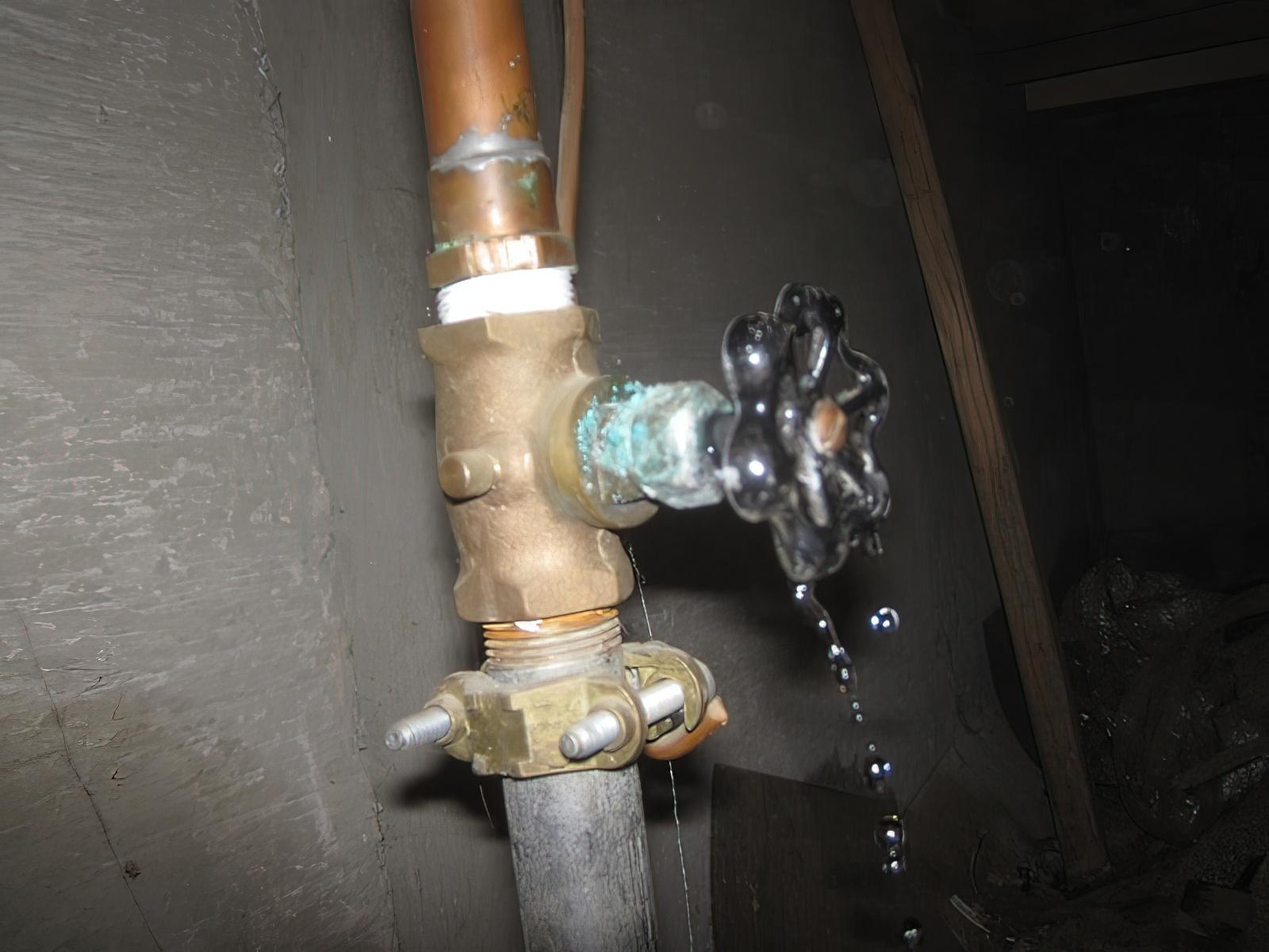water drop: (826, 655, 865, 723), (874, 819, 911, 881), (857, 747, 894, 797), (858, 522, 888, 562), (871, 605, 903, 635)
